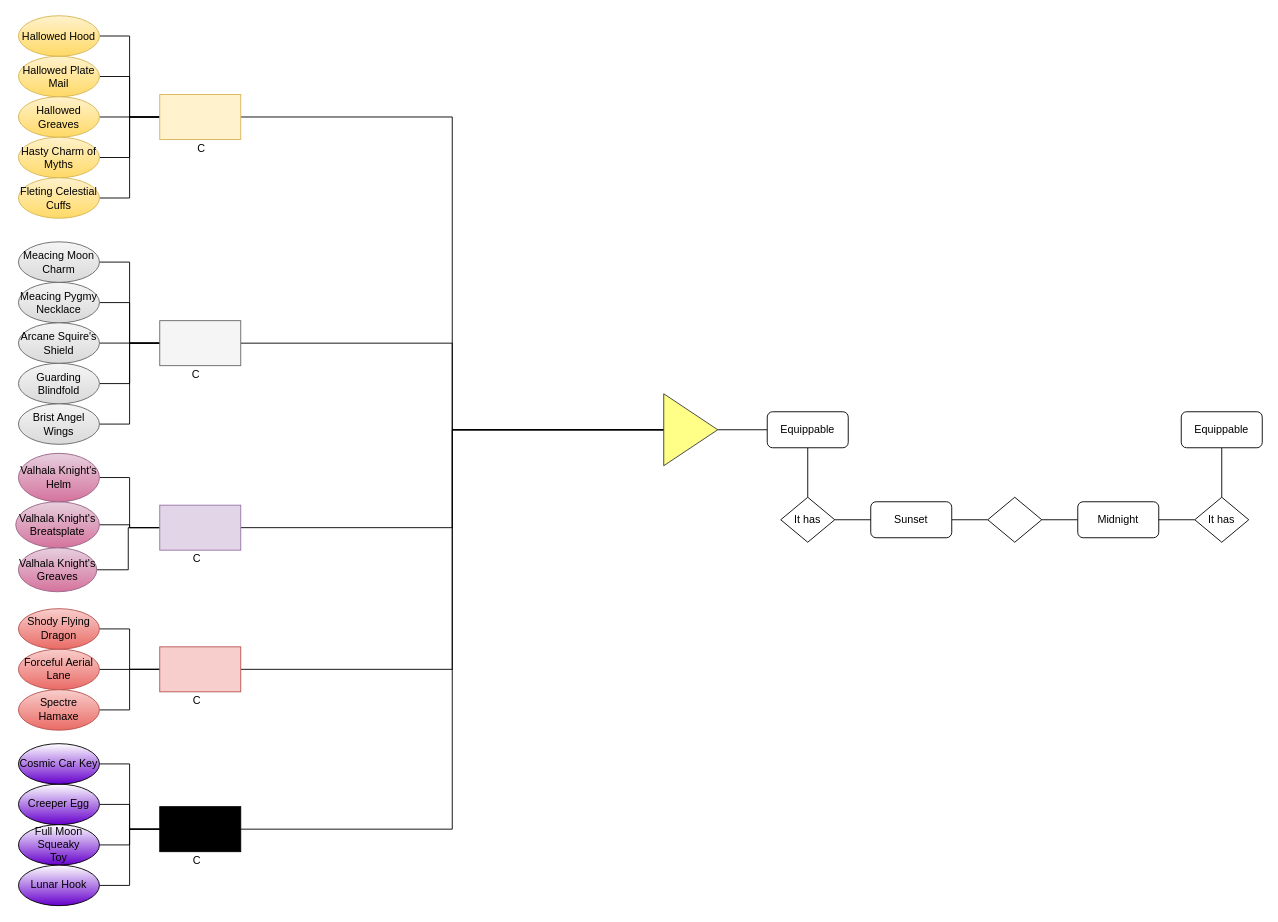
The diagram is 1278 pixels wide and 922 high, and some of its shapes have lost their labels. The shapes that lost their labels are listed below. From the top down, each one's centre as x and y in pixels, then its label:
At (x=200, y=117): "Cosmetic".
At (x=200, y=343): "Equipments".
At (x=200, y=527): "Armor".
At (x=1014, y=519): "Allied".
At (x=200, y=669): "Weapons".
At (x=200, y=829): "Mount&Pets& Hook".
